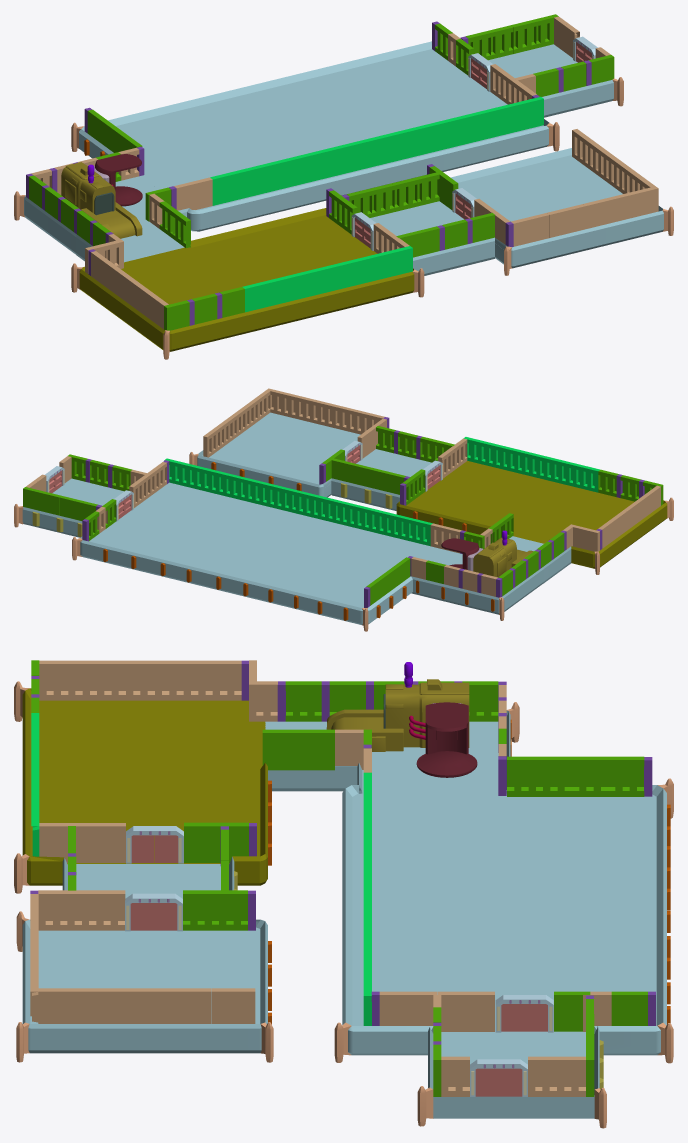
Rendered from Platforms_Redesigned.fbx.
The picture shows the model from 3 angles, top to bottom: view 1: azimuth 30°, elevation 25°; view 2: azimuth 150°, elevation 25°; view 3: azimuth 270°, elevation 25°; orthographic projection. The views are drawn at different scales.
Parts seen in each view (by area): view 1: Scraps, Sculptures, Export, pPlane14, pPlane9, pPlane18, Corridor, Lobby, MainChasis, Platform6, Platform7, Chamber (+17 smaller); view 2: Scraps, Sculptures, Export, pPlane14, pPlane18, pPlane9, Platform6, Corridor, Lobby, MainChasis, Platform7, Chamber (+16 smaller); view 3: Scraps, Sculptures, Export, Lobby, Platform6, MainChasis, Corridor, Chamber, pCube38 (×4), Platform7, pPlane122, pPlane121 (+49 smaller).
Part boxes in pixels (x1,y1,x2,y2): Scraps: (79, 41, 549, 231); Sculptures: (79, 208, 414, 351); Export: (438, 148, 663, 268); pPlane14: (210, 137, 380, 205); pPlane9: (373, 96, 543, 165); pPlane18: (242, 246, 412, 312); Corridor: (370, 201, 494, 275); Lobby: (488, 44, 613, 117); MainChasis: (61, 162, 142, 238); Platform6: (24, 176, 188, 254); Platform7: (76, 222, 184, 262); Chamber: (95, 154, 142, 206); Scraps: (80, 482, 448, 624); Sculptures: (396, 461, 667, 568); Export: (197, 412, 376, 497); pPlane14: (295, 491, 432, 546); pPlane18: (463, 437, 599, 492); pPlane9: (164, 458, 301, 513); Platform6: (411, 551, 543, 614); Corridor: (331, 449, 431, 510); Lobby: (22, 478, 123, 537); MainChasis: (473, 537, 533, 577); Platform7: (509, 536, 571, 583); Chamber: (441, 538, 479, 569); Scraps: (342, 785, 666, 1055); Sculptures: (22, 688, 267, 885); Export: (22, 919, 267, 1053); Lobby: (428, 1026, 599, 1118); Platform6: (357, 710, 510, 793); MainChasis: (326, 679, 469, 751); Corridor: (62, 857, 234, 898); Chamber: (416, 702, 477, 777); pCube38 (×4): (125, 826, 553, 1096); Platform7: (265, 721, 361, 791); pPlane122: (298, 729, 334, 770); pPlane121: (262, 729, 298, 770).
Bounding box in the file's own units: 59.9 × 8.52 × 40.74.
